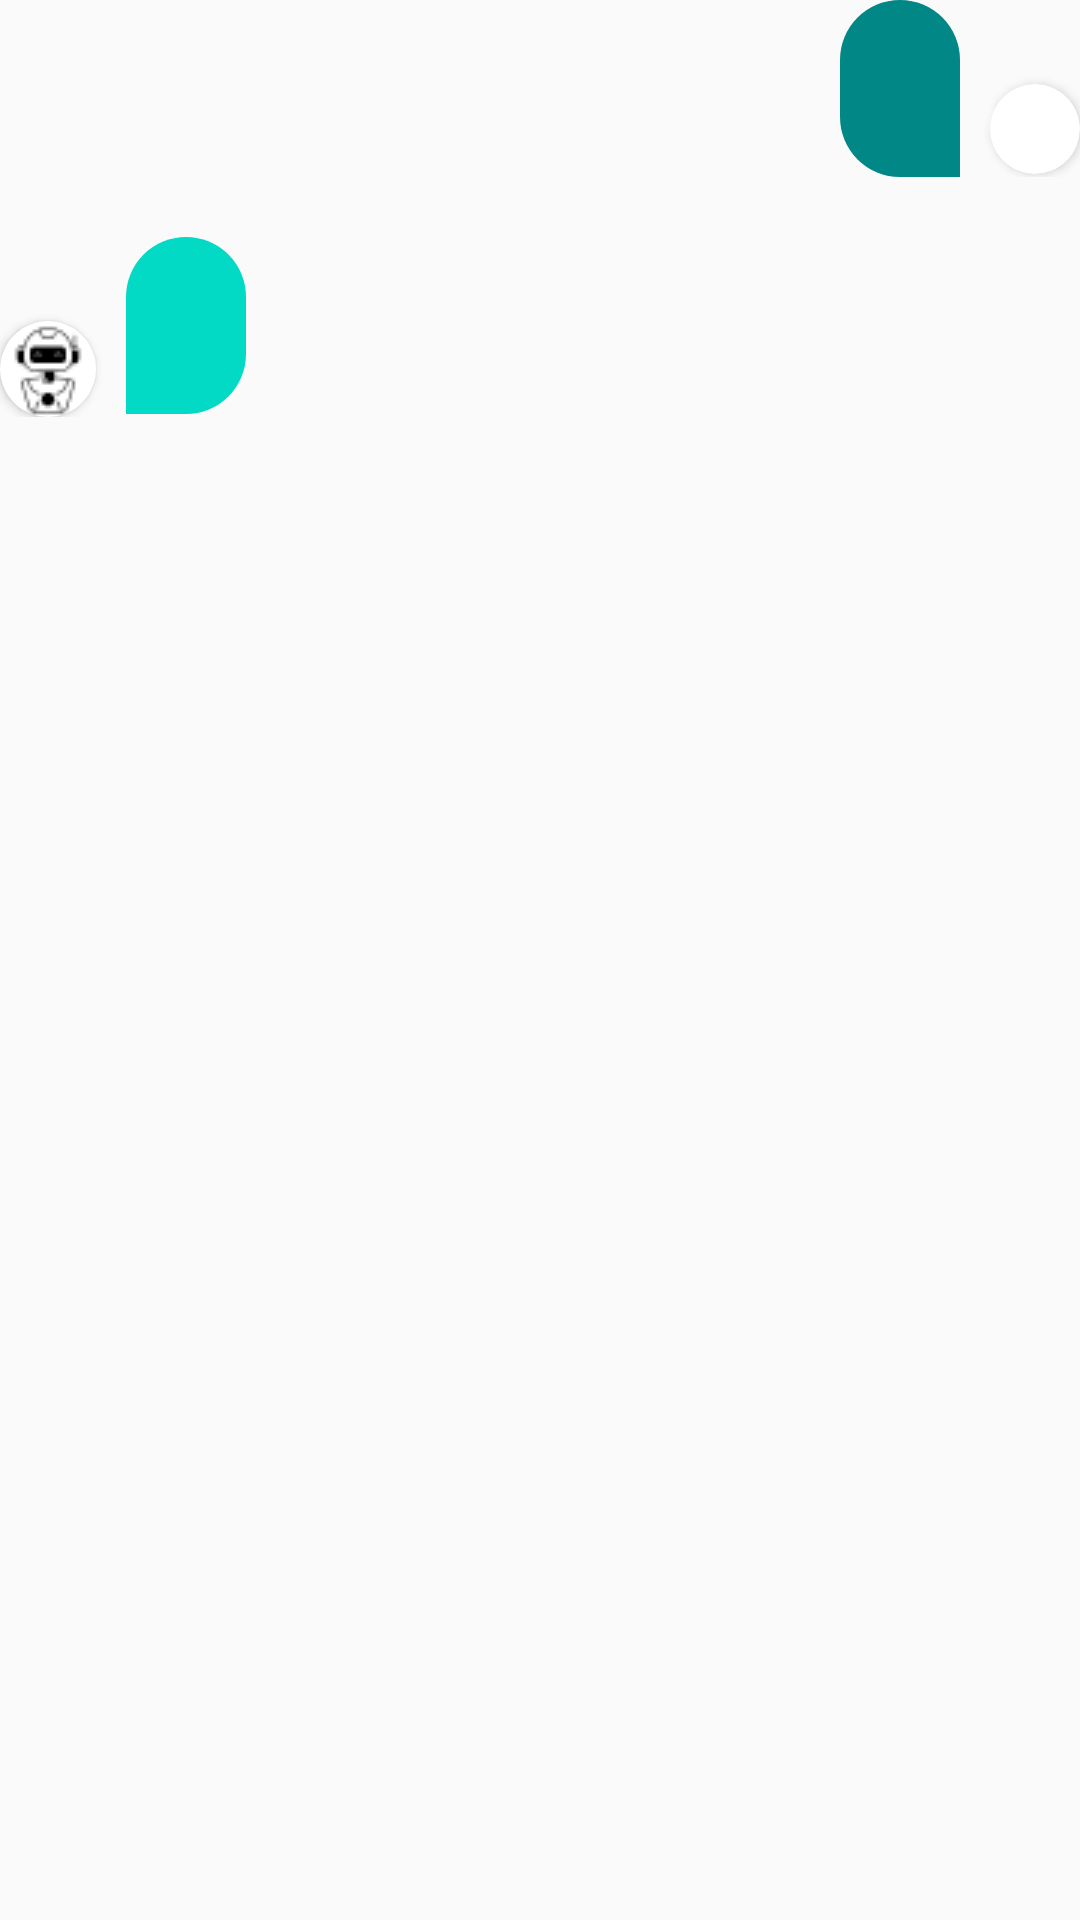

Locate icon controls on the screen. Image size 1080x1920, boxes as (x1, y1, x2, y2).
bot: (0, 326, 81, 417)
